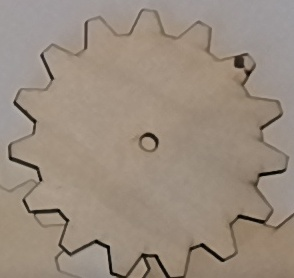Points: (230, 53, 253, 76)
